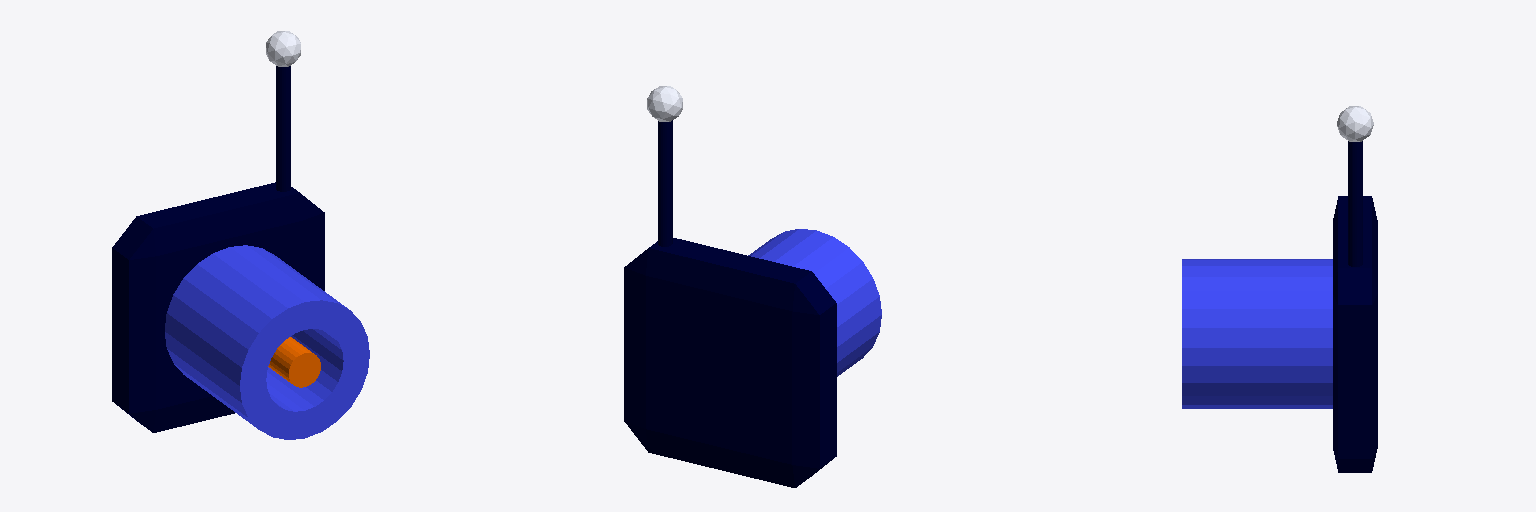
File: AFM_PC_Communicator.obj
The picture shows the model from 3 angles: view 1: azimuth 30°, elevation 25°; view 2: azimuth 150°, elevation 25°; view 3: azimuth 270°, elevation 25°; orthographic projection.
Parts seen in each view (by area): view 1: mergedBlocks; view 2: mergedBlocks; view 3: mergedBlocks.
Part boxes in pixels (bbox=[...]): mergedBlocks: bbox=[112, 31, 369, 439]; mergedBlocks: bbox=[624, 86, 881, 487]; mergedBlocks: bbox=[1182, 106, 1377, 472].
Size of the model in its own units: 0.3 by 0.53 by 0.26.